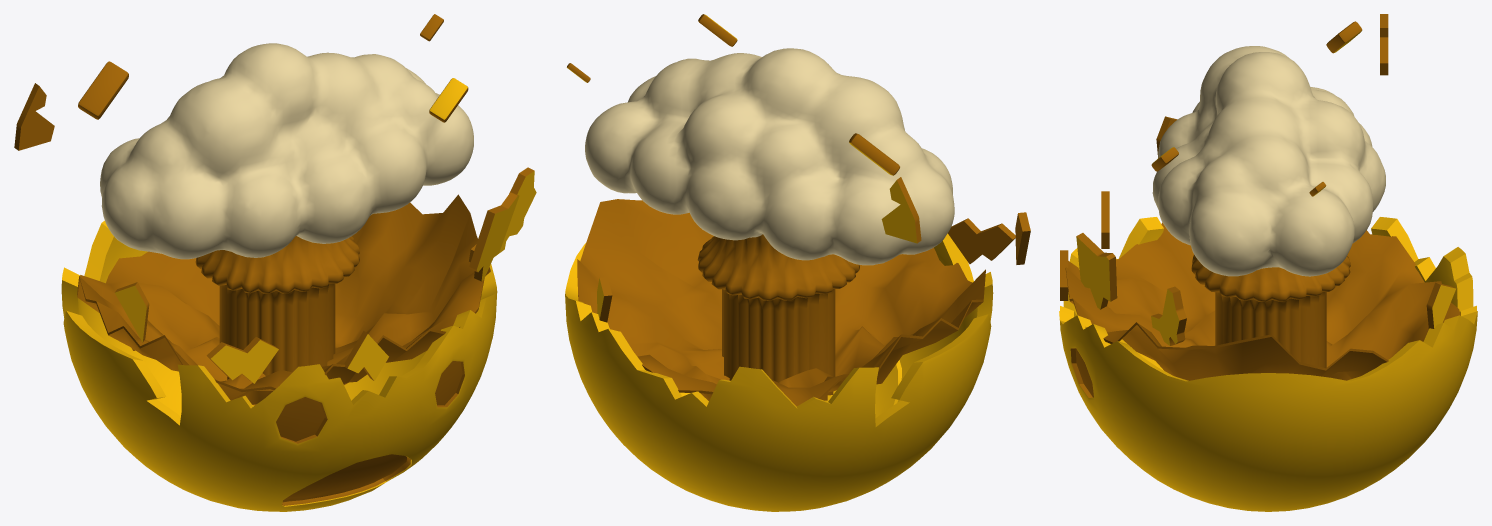
The model's file is explodeHead_emoji.glb.
3 renders of one model, left to right at view 1: azimuth 30°, elevation 25°; view 2: azimuth 150°, elevation 25°; view 3: azimuth 270°, elevation 25°, orthographic. The views are drawn at different scales.
Parts seen in each view (by area): view 1: Apple Exploding Head; view 2: Apple Exploding Head; view 3: Apple Exploding Head.
Part boxes in pixels (<box>): Apple Exploding Head: <box>14,14,536,511</box>; Apple Exploding Head: <box>565,14,1030,511</box>; Apple Exploding Head: <box>1059,14,1477,511</box>.
Bounding box in the file's own units: 0.0273 × 0.0277 × 0.0244.
